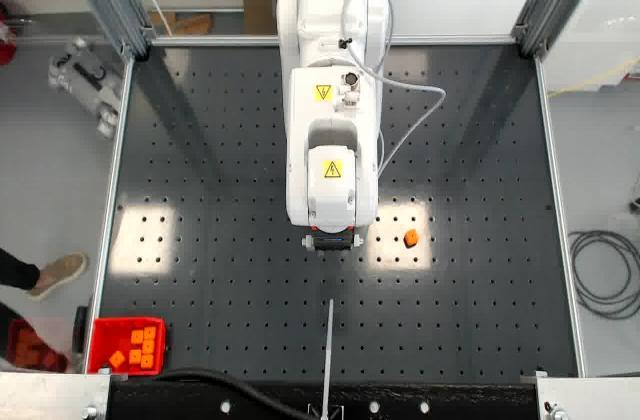cube: (402, 230, 421, 248)
